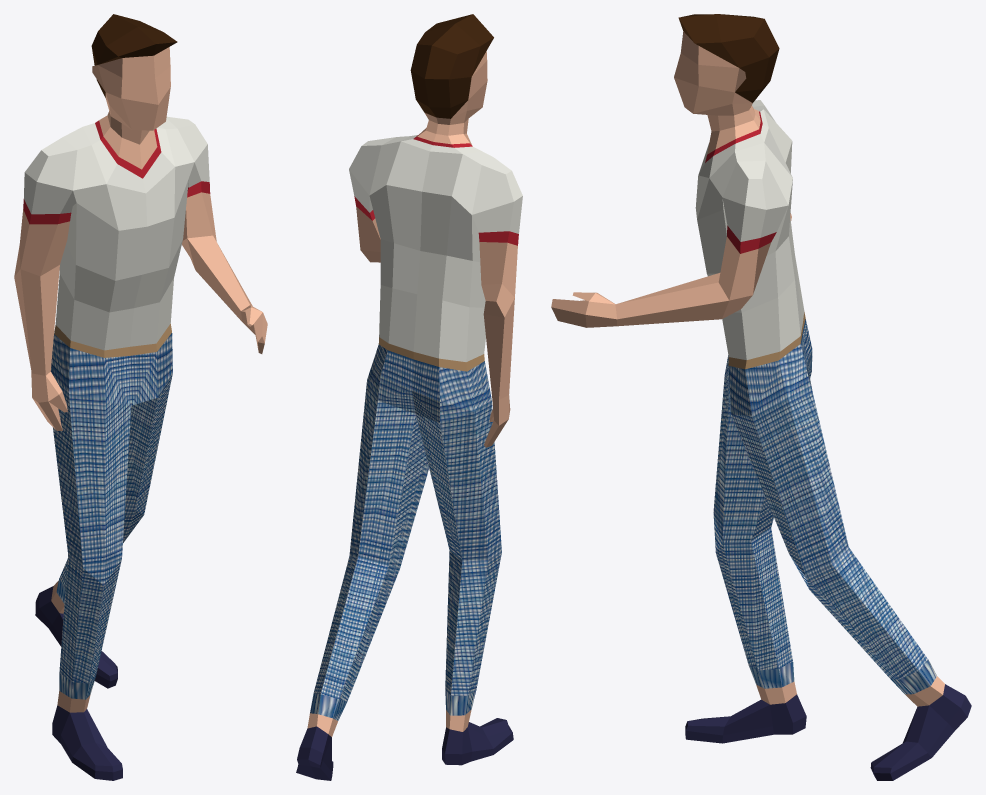
The model's file is SpringManB.007.glb.
The picture shows the model from 3 angles, left to right: view 1: azimuth 30°, elevation 25°; view 2: azimuth 150°, elevation 25°; view 3: azimuth 270°, elevation 25°; orthographic projection. The views are drawn at different scales.
Visible parts, largest first — view 1: SpringManB.008; view 2: SpringManB.008; view 3: SpringManB.008.
Part boxes in pixels (x1,y1,x2,y2): SpringManB.008: [14, 14, 267, 780]; SpringManB.008: [296, 14, 522, 780]; SpringManB.008: [551, 14, 971, 780].
Size of the model in its own units: 0.4345 by 1.74 by 0.8942.
1 material, 1 textured.
